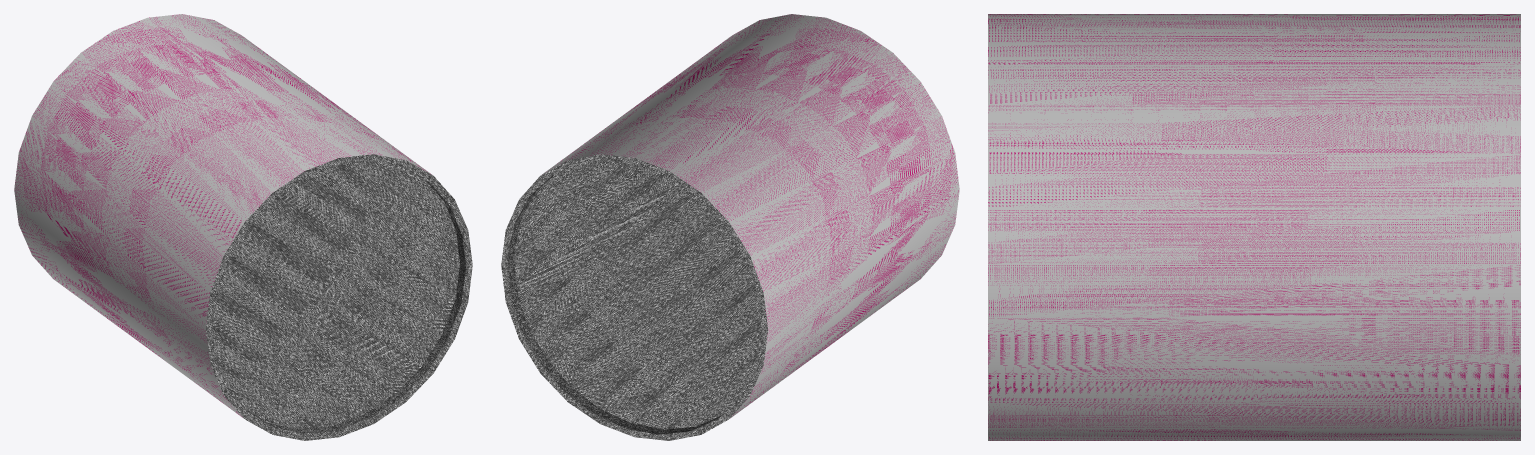
Rendered from model_scale.obj.
3 views of the same model, side by side, from view 1: azimuth 30°, elevation 25°; view 2: azimuth 150°, elevation 25°; view 3: azimuth 270°, elevation 25° (orthographic). The views are drawn at different scales.
Visible parts, largest first — view 1: mesh1_mesh1-geometry; view 2: mesh1_mesh1-geometry; view 3: mesh1_mesh1-geometry.
Part boxes in pixels (<box>): mesh1_mesh1-geometry: <box>14,14,472,440</box>; mesh1_mesh1-geometry: <box>501,14,959,440</box>; mesh1_mesh1-geometry: <box>988,14,1520,440</box>.
Size of the model in its own units: 0.0765 by 0.0765 by 0.0951.
